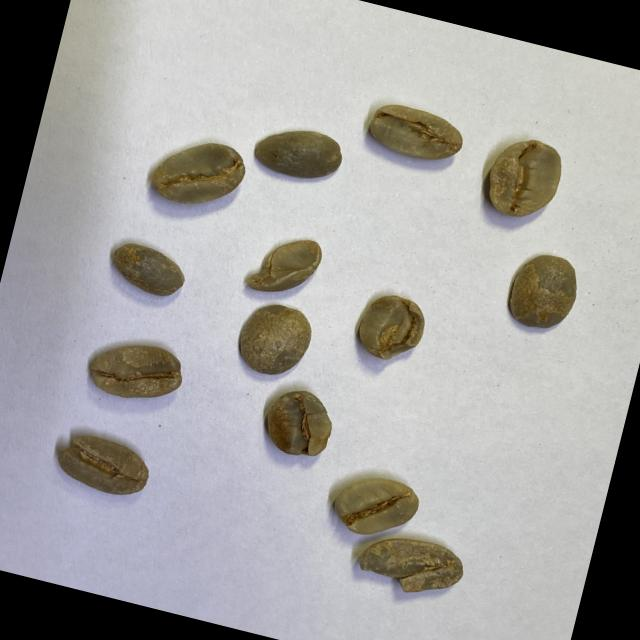bad: (346, 520, 471, 606), (45, 422, 159, 506), (344, 284, 431, 372), (252, 380, 340, 466), (241, 223, 326, 307)
good: (140, 125, 252, 218), (474, 126, 570, 228), (81, 326, 193, 411), (320, 462, 424, 544), (500, 243, 586, 339), (361, 96, 467, 172), (231, 296, 318, 382), (248, 116, 348, 190), (102, 235, 192, 304)
